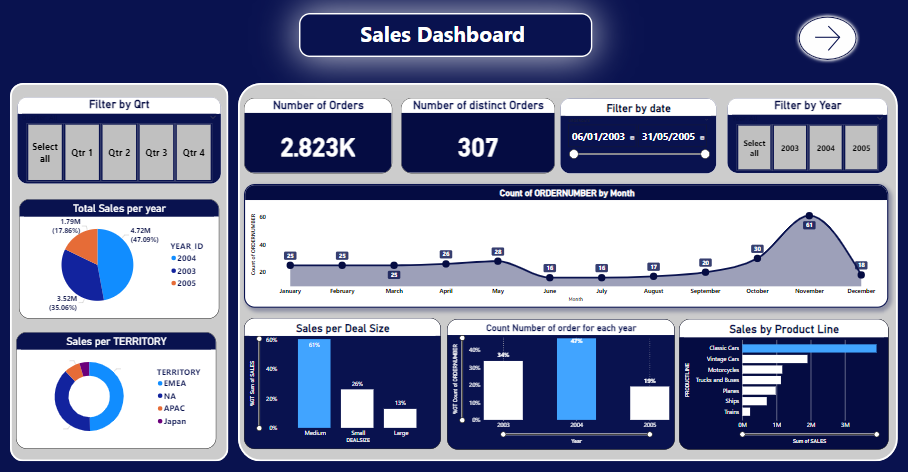

What the dashboard file says about the page in this screenshot:
{"tool":"powerbi","page":{"name":"Page 1","canvas":[2500,1300],"ordinal":0},"visuals":[{"type":"shape","box":[658.9,233.1,1812.6,1039.5],"z":0},{"type":"textbox","box":[826.6,40.5,806.4,121.4],"z":1000},{"type":"lineChart","fields":{"Y":["Count(Sales Data.ORDERNUMBER)"],"Category":["Sales Data.ORDERDATE.Variation.Date Hierarchy.Year","Sales Data.ORDERDATE.Variation.Date Hierarchy.Quarter","Sales Data.ORDERDATE.Variation.Date Hierarchy.Month","Sales Data.ORDERDATE.Variation.Date Hierarchy.Day"]},"box":[675.5,511.4,1769.7,340.2],"z":2000},{"type":"slicer","title":"Filter by date","fields":{"Values":["Sales Data.ORDERDATE"]},"box":[1545,273.7,430.4,208.1],"z":3000},{"type":"cardVisual","title":"Number of distinct Orders","fields":{"Data":["Count(Sales Data.ORDERNUMBER)"]},"box":[1106.1,273.5,423.4,206.9],"z":4000},{"type":"slicer","title":"Filter by Year","fields":{"Values":["Sales Data.ORDERDATE.Variation.Date Hierarchy.Year"]},"box":[2002.9,273.5,442.4,206.9],"z":5000},{"type":"clusteredBarChart","title":"Sales by Product Line","fields":{"Category":["Sales Data.PRODUCTLINE"],"Y":["Sum(Sales Data.SALES)"]},"box":[1869.6,882.5,575.6,359.2],"z":6000},{"type":"columnChart","title":"Sales per Deal Size","fields":{"Y":["Sum(Sales Data.SALES)"],"Category":["Sales Data.DEALSIZE"]},"box":[674.5,879.4,541,359.9],"z":7000},{"type":"shape","box":[34.2,234.2,600,1039.5],"z":8000},{"type":"clusteredColumnChart","title":"Count Number of order for each year","fields":{"Category":["Sales Data.ORDERDATE.Variation.Date Hierarchy.Year"],"Y":["Sum(Sales Data.ORDERNUMBER)"]},"box":[1232.2,882.5,625.6,359.2],"z":9000},{"type":"cardVisual","title":"Number of Orders","fields":{"Data":["CountNonNull(Sales Data.ORDERNUMBER)"]},"box":[675.5,273.5,406.8,206.9],"z":10000},{"type":"donutChart","title":"Sales per TERRITORY","fields":{"Y":["Sum(Sales Data.SALES)"],"Category":["Sales Data.TERRITORY"]},"box":[50,918.4,550,321.1],"z":11000},{"type":"slicer","title":"Filter by Qrt","fields":{"Values":["Sales Data.ORDERDATE.Variation.Date Hierarchy.Quarter"]},"box":[52.6,271.1,560.5,239.5],"z":12000},{"type":"pieChart","title":"Total Sales per year","fields":{"Category":["Sales Data.YEAR_ID"],"Y":["Sum(Sales Data.SALES)"]},"box":[57.9,552.6,550,328.9],"z":13000},{"type":"actionButton","box":[2190.8,40.5,179.2,138.7],"z":14001}]}

Visuals, with their boxes in screenshot pixels (x1, y1, x2, y2), scaled from the page's 2500x1300 canvas onto the 908x472 screenshot:
shape: <box>239,85,898,462</box>
textbox: <box>300,15,593,59</box>
lineChart - Count(Sales Data.ORDERNUMBER) x Sales Data.ORDERDATE.Variation.Date Hierarchy.Year: <box>245,186,888,309</box>
"Filter by date" slicer: <box>561,99,717,175</box>
"Number of distinct Orders" cardVisual: <box>402,99,556,174</box>
"Filter by Year" slicer: <box>727,99,888,174</box>
"Sales by Product Line" clusteredBarChart: <box>679,320,888,451</box>
"Sales per Deal Size" columnChart: <box>245,319,441,450</box>
shape: <box>12,85,230,462</box>
"Count Number of order for each year" clusteredColumnChart: <box>448,320,675,451</box>
"Number of Orders" cardVisual: <box>245,99,393,174</box>
"Sales per TERRITORY" donutChart: <box>18,333,218,450</box>
"Filter by Qrt" slicer: <box>19,98,223,185</box>
"Total Sales per year" pieChart: <box>21,201,221,320</box>
actionButton: <box>796,15,861,65</box>
